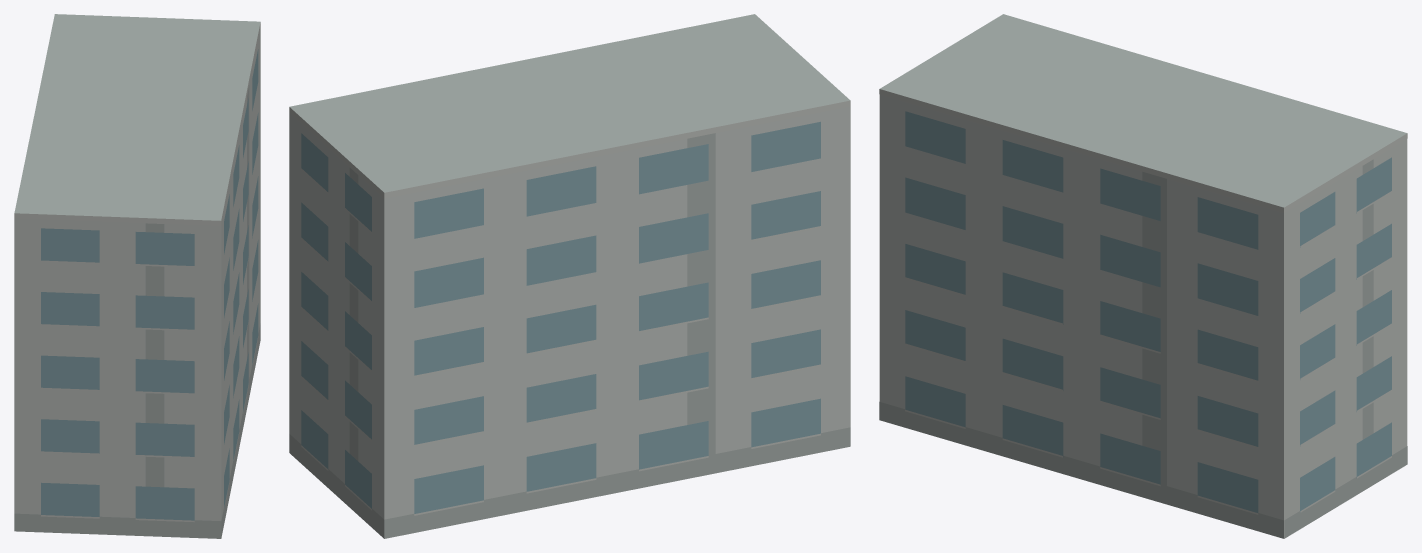
File: survey-upis-32798386.glb
The picture shows the model from 3 angles, left to right: view 1: azimuth 30°, elevation 25°; view 2: azimuth 150°, elevation 25°; view 3: azimuth 270°, elevation 25°; orthographic projection. The views are drawn at different scales.
Visible parts, largest first — view 1: survey-upis-32798386.tmp; view 2: survey-upis-32798386.tmp; view 3: survey-upis-32798386.tmp.
Boxes of the visible parts, x1,y1,x2,y2 form: survey-upis-32798386.tmp: [14, 14, 260, 538]; survey-upis-32798386.tmp: [289, 14, 850, 538]; survey-upis-32798386.tmp: [879, 14, 1407, 538].
Bounding box in the file's own units: 18.19 × 14.5 × 20.95.
